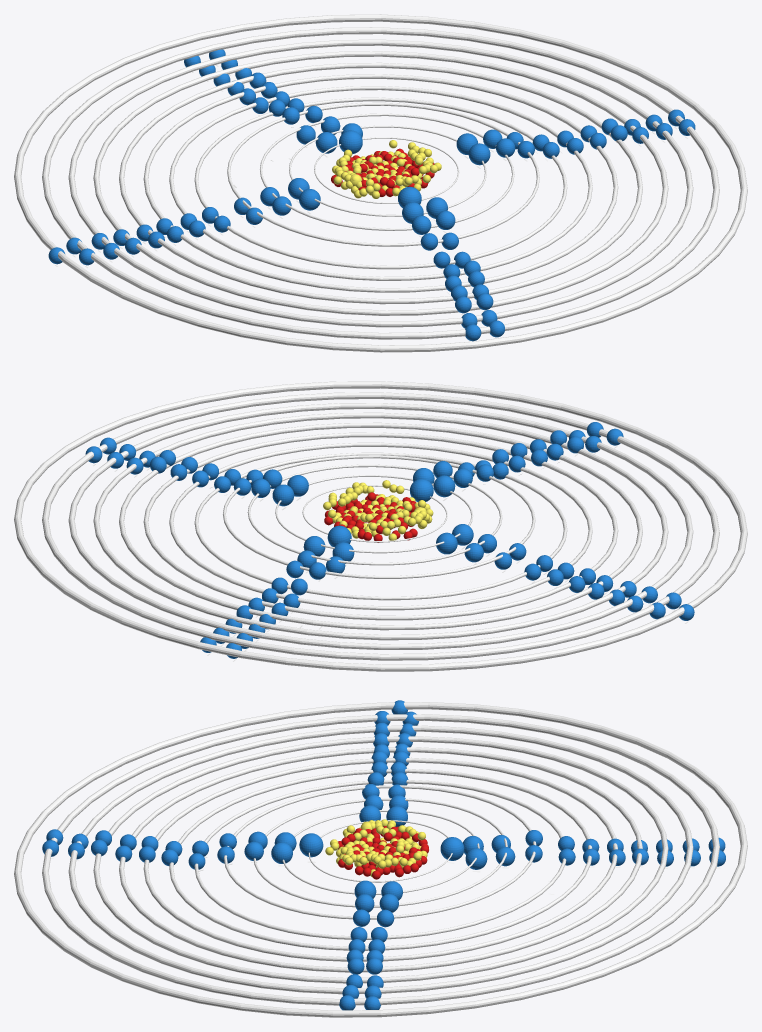
The picture shows the model from 3 angles, top to bottom: view 1: azimuth 30°, elevation 25°; view 2: azimuth 150°, elevation 25°; view 3: azimuth 270°, elevation 25°; orthographic projection.
Visible parts, largest first — view 1: Torus.012, Torus.011, Torus.010, Torus.009, Torus.008, Torus.007, Torus.006, Torus.005, Torus.004, Torus.003, Torus.002, Torus.001; view 2: Torus.012, Torus.011, Torus.010, Torus.009, Torus.008, Torus.007, Torus.006, Torus.005, Torus.004, Torus.003, Torus.002, Torus.001; view 3: Torus.012, Torus.011, Torus.010, Torus.009, Torus.008, Torus.007, Torus.006, Torus.005, Torus.004, Torus.003, Torus.002, Torus.001.
Part boxes in pixels (x1,y1,x2,y2): Torus.012: [14, 14, 747, 352]; Torus.011: [42, 27, 719, 339]; Torus.010: [68, 39, 693, 327]; Torus.009: [93, 51, 668, 315]; Torus.008: [119, 62, 642, 304]; Torus.007: [143, 74, 618, 292]; Torus.006: [169, 86, 592, 280]; Torus.005: [194, 97, 567, 269]; Torus.004: [227, 102, 539, 246]; Torus.003: [260, 113, 514, 230]; Torus.002: [289, 125, 486, 216]; Torus.001: [314, 137, 459, 203]; Torus.012: [14, 381, 747, 671]; Torus.011: [42, 392, 719, 660]; Torus.010: [68, 403, 693, 649]; Torus.009: [93, 412, 668, 640]; Torus.008: [119, 422, 642, 630]; Torus.007: [143, 432, 618, 620]; Torus.006: [169, 442, 592, 610]; Torus.005: [194, 452, 567, 600]; Torus.004: [223, 455, 535, 578]; Torus.003: [247, 464, 502, 565]; Torus.002: [275, 475, 472, 553]; Torus.001: [302, 485, 447, 542]; Torus.012: [14, 702, 747, 1017]; Torus.011: [42, 714, 719, 1005]; Torus.010: [68, 725, 693, 994]; Torus.009: [93, 736, 668, 983]; Torus.008: [119, 747, 642, 972]; Torus.007: [143, 757, 617, 961]; Torus.006: [169, 768, 592, 950]; Torus.005: [194, 780, 566, 939]; Torus.004: [224, 785, 536, 919]; Torus.003: [253, 798, 507, 907]; Torus.002: [282, 810, 479, 894]; Torus.001: [308, 820, 452, 882].
Bounding box in the file's own units: 30.56 × 2.85 × 30.34.
